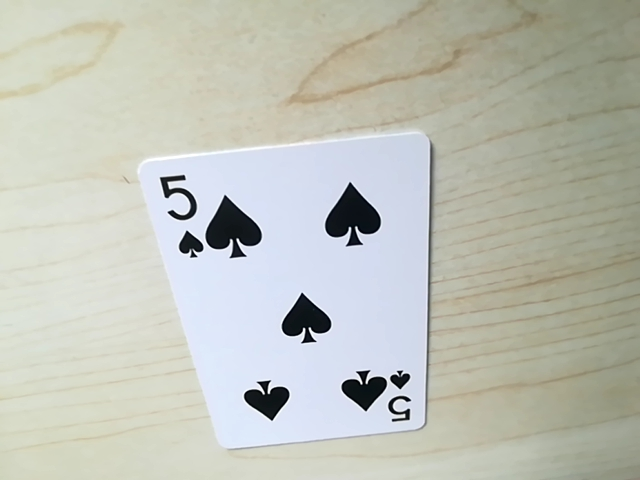ht 5: (153, 169, 208, 265), (376, 368, 417, 429)
